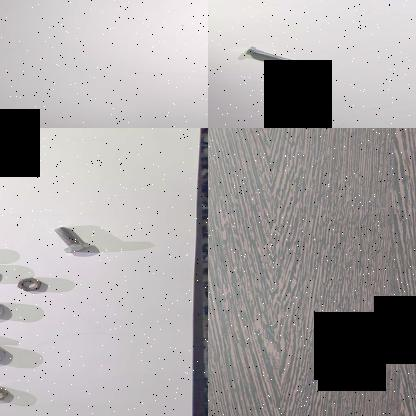Bolts: (49, 223, 96, 254), (240, 43, 298, 68)
NUTS: (13, 276, 47, 292), (0, 386, 16, 403), (0, 300, 12, 322), (0, 343, 9, 363)
